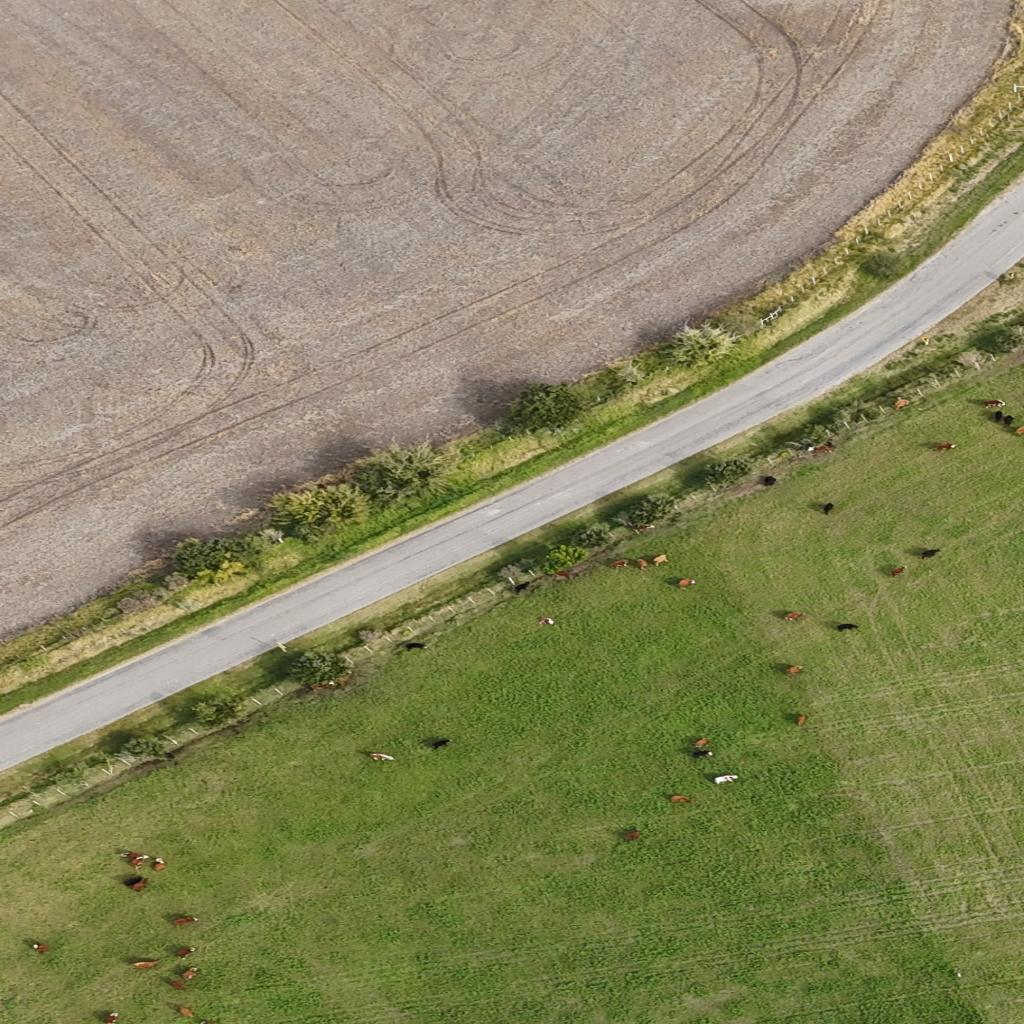cow: (334, 671, 357, 688), (174, 946, 196, 959), (130, 855, 150, 869), (427, 739, 450, 751), (368, 752, 395, 762), (130, 960, 160, 969), (136, 878, 153, 893), (173, 916, 198, 926), (713, 774, 738, 784), (99, 1009, 118, 1022), (120, 876, 144, 886), (310, 681, 333, 691), (151, 858, 168, 871), (935, 442, 957, 452), (810, 444, 832, 454), (691, 750, 713, 760), (785, 664, 803, 676), (180, 968, 198, 980), (632, 524, 653, 534), (920, 549, 941, 559), (893, 398, 910, 410), (178, 1006, 195, 1018), (784, 612, 804, 622), (622, 830, 640, 841), (31, 943, 49, 954), (670, 795, 694, 803), (652, 554, 668, 566), (677, 578, 696, 588), (404, 643, 427, 651), (836, 624, 859, 632), (552, 570, 572, 579), (514, 582, 529, 594), (890, 566, 906, 577), (694, 737, 710, 748), (983, 400, 1005, 408), (170, 980, 186, 991), (611, 560, 630, 569), (637, 560, 654, 570), (1002, 414, 1016, 426), (762, 476, 777, 486), (796, 714, 808, 726), (537, 617, 555, 625), (822, 503, 834, 514), (992, 410, 1003, 422), (120, 852, 146, 857), (1014, 426, 1023, 436), (200, 1021, 219, 1024)
